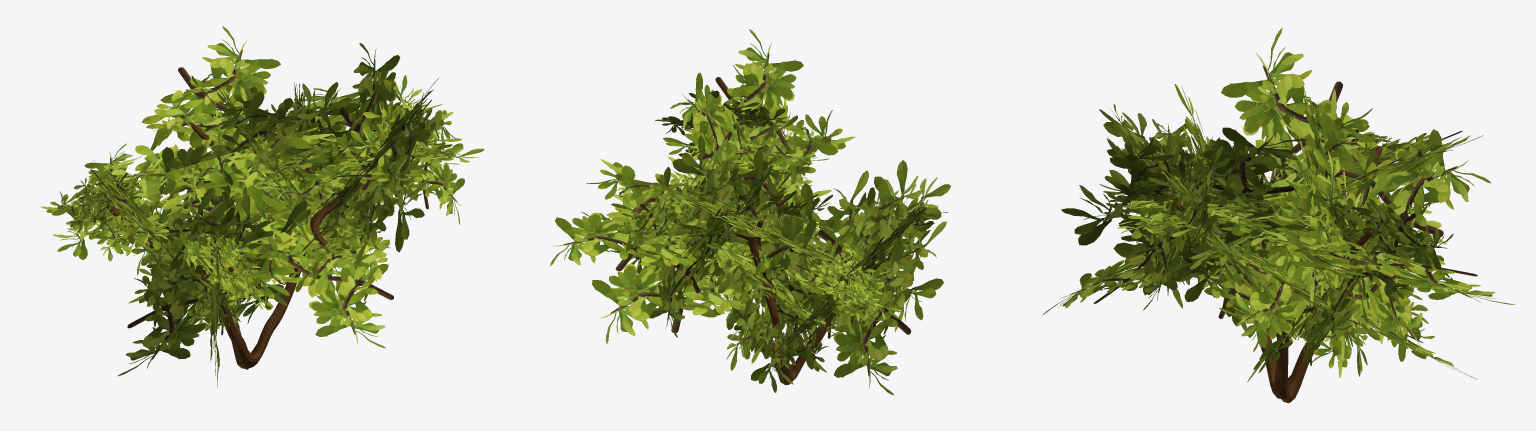
The model's file is Bush.fbx.
The picture shows the model from 3 angles, left to right: view 1: azimuth 30°, elevation 25°; view 2: azimuth 150°, elevation 25°; view 3: azimuth 270°, elevation 25°; orthographic projection. The views are drawn at different scales.
Parts seen in each view (by area): view 1: Bush; view 2: Bush; view 3: Bush.
Boxes of the visible parts, left/top/right/bottom form: Bush: left=40, top=26, right=484, bottom=386; Bush: left=550, top=29, right=950, bottom=395; Bush: left=1042, top=28, right=1514, bottom=403.
Size of the model in its own units: 148 by 112 by 130.
